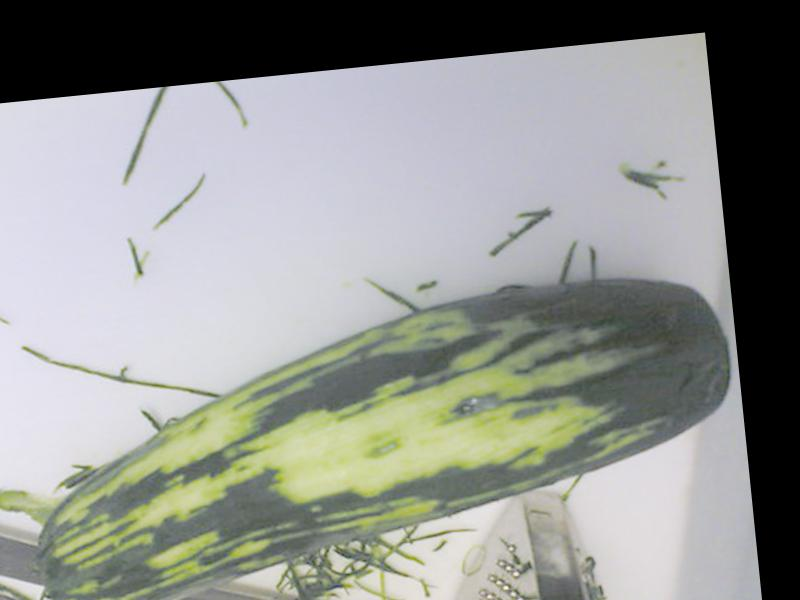Cucumber: (13, 265, 750, 600)
